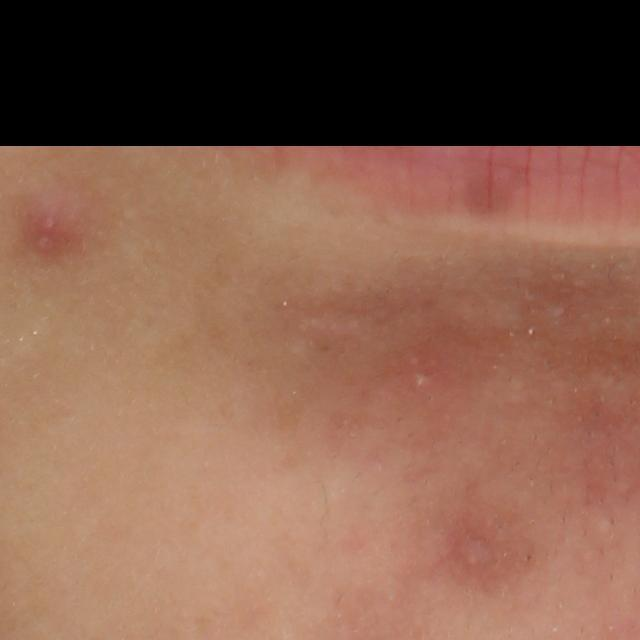pustule: (407, 368, 430, 393)
